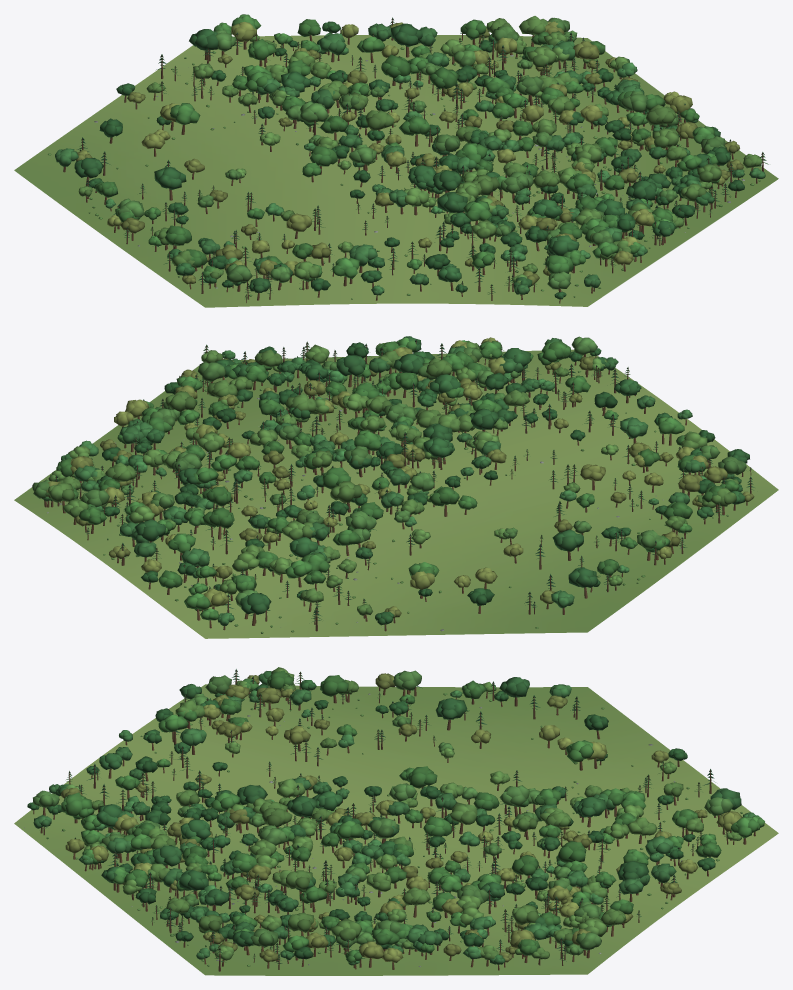
3 views of the same model, one above another, from view 1: azimuth 30°, elevation 25°; view 2: azimuth 150°, elevation 25°; view 3: azimuth 270°, elevation 25° (orthographic).
Visible parts, largest first — view 1: broadleaf_canopy, terrain, trunks, conifer_canopy, shrubs; view 2: terrain, broadleaf_canopy, trunks, conifer_canopy, shrubs; view 3: broadleaf_canopy, terrain, trunks, conifer_canopy, shrubs.
Part boxes in pixels (box(x1,y1,x2,y2)): broadleaf_canopy: box(55, 14, 765, 299); terrain: box(14, 35, 778, 307); trunks: box(63, 18, 763, 303); conifer_canopy: box(77, 17, 768, 298); shrubs: box(48, 47, 760, 299); terrain: box(14, 349, 778, 638); broadleaf_canopy: box(32, 336, 754, 625); trunks: box(44, 340, 751, 631); conifer_canopy: box(43, 339, 754, 621); shrubs: box(103, 364, 736, 633); broadleaf_canopy: box(27, 667, 764, 965); terrain: box(14, 684, 778, 975); trunks: box(33, 670, 755, 971); conifer_canopy: box(45, 669, 728, 963); shrubs: box(46, 692, 742, 966).
Size of the model in its own units: 4330 by 312 by 5000.
